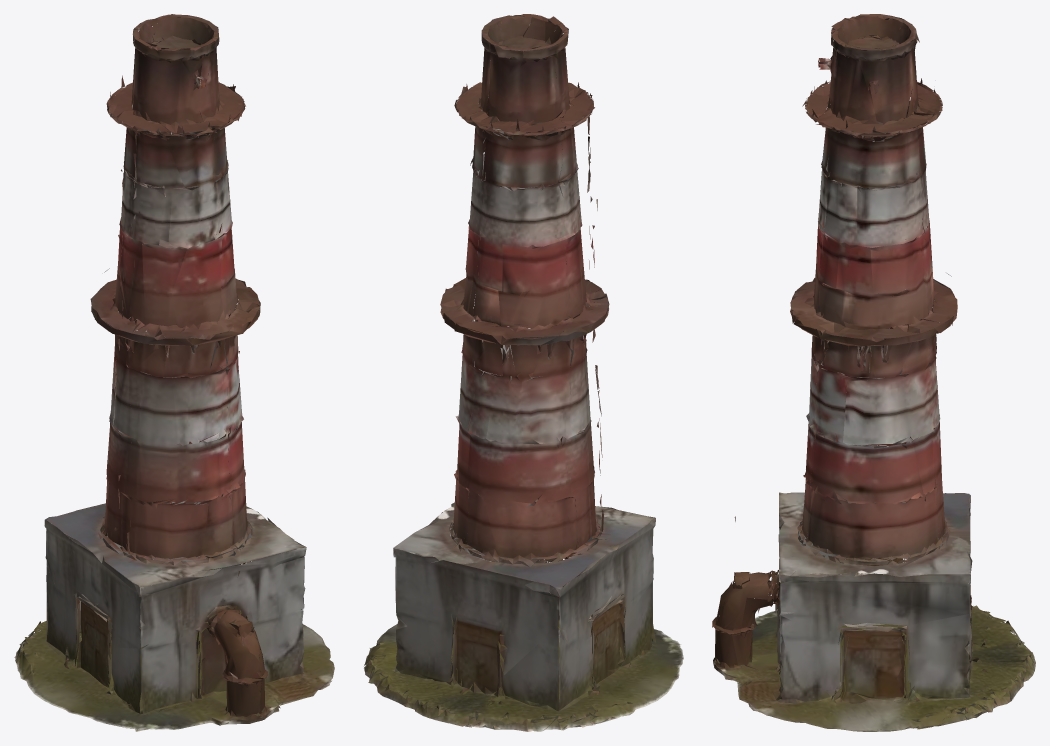
The model's file is building_smokestack.glb.
3 renders of one model, left to right at view 1: azimuth 30°, elevation 25°; view 2: azimuth 150°, elevation 25°; view 3: azimuth 270°, elevation 25°, orthographic.
Visible parts, largest first — view 1: building_smokestack; view 2: building_smokestack; view 3: building_smokestack.
Part boxes in pixels (x1=…): building_smokestack: x1=14, y1=14, x2=334, y2=731; building_smokestack: x1=364, y1=14, x2=683, y2=731; building_smokestack: x1=712, y1=14, x2=1035, y2=731.
Bounding box in the file's own units: 9.76 × 21.57 × 9.95.
1 material, 1 textured.
